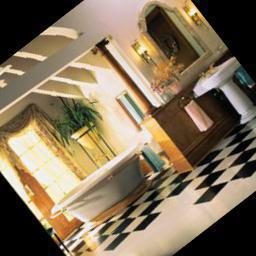Lavamanos: (191, 52, 256, 135)
